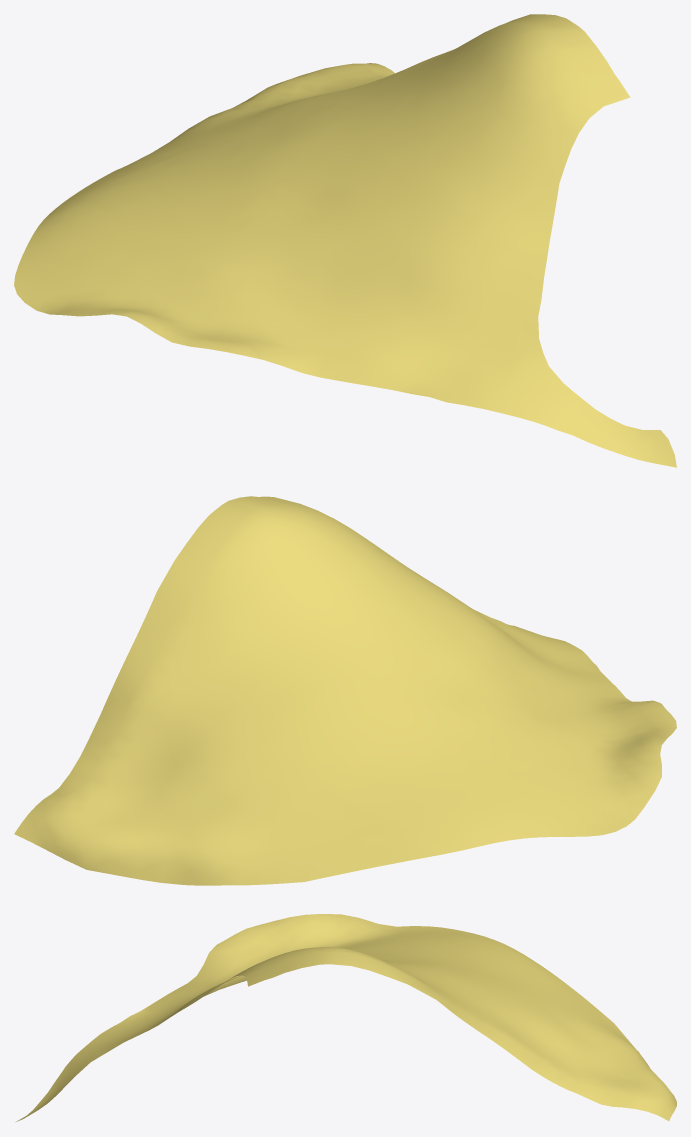
Rendered from tentorium-cerebelli-r.glb.
3 renders of one model, top to bottom at view 1: azimuth 30°, elevation 25°; view 2: azimuth 150°, elevation 25°; view 3: azimuth 270°, elevation 25°, orthographic. The views are drawn at different scales.
Visible parts, largest first — view 1: Tentorium cerebelli.r; view 2: Tentorium cerebelli.r; view 3: Tentorium cerebelli.r.
Boxes of the visible parts, <box> form: Tentorium cerebelli.r: <box>14,14,676,467</box>; Tentorium cerebelli.r: <box>14,496,676,885</box>; Tentorium cerebelli.r: <box>15,914,676,1122</box>.
Size of the model in its own units: 0.0609 by 0.0301 by 0.0905.
